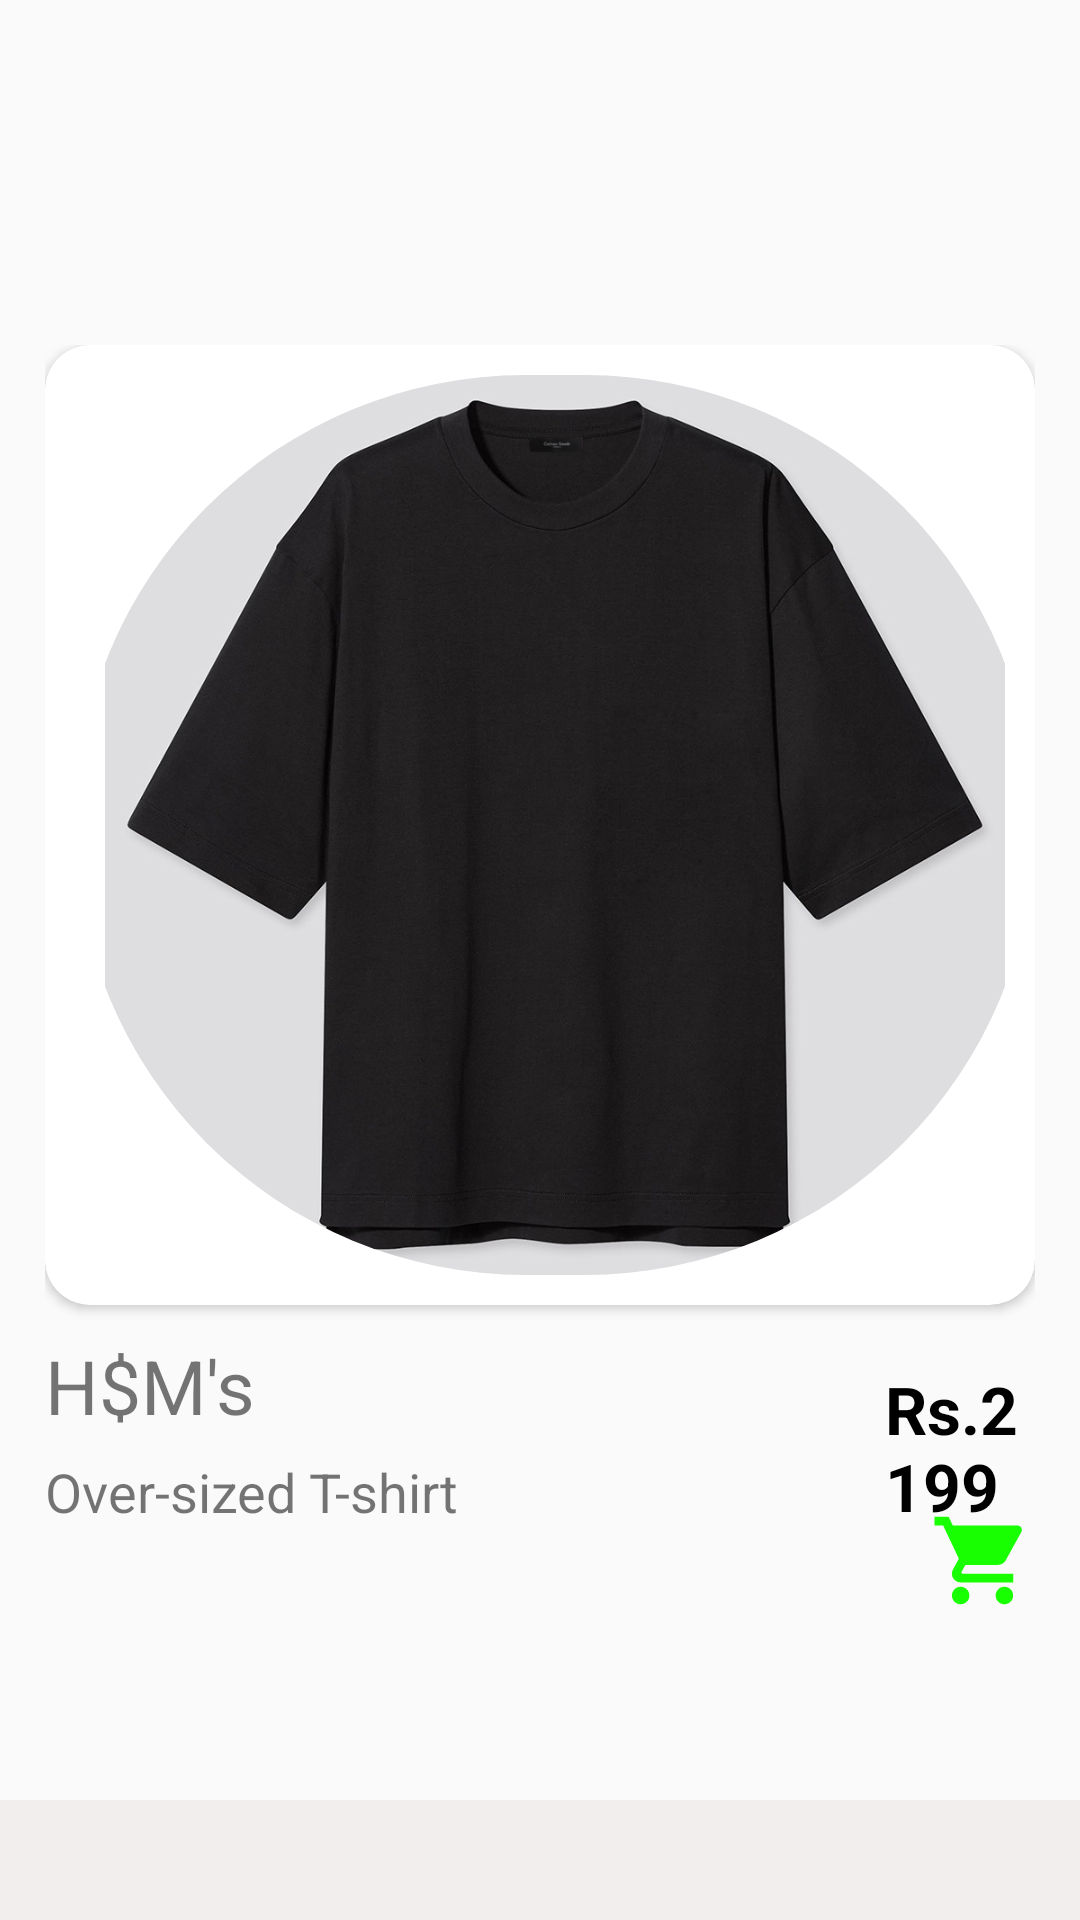

Where icons sit on this 1080 × 1920 app screen, as box(x1, y1, x2, y2):
greencart: box(934, 1516, 1022, 1605)
